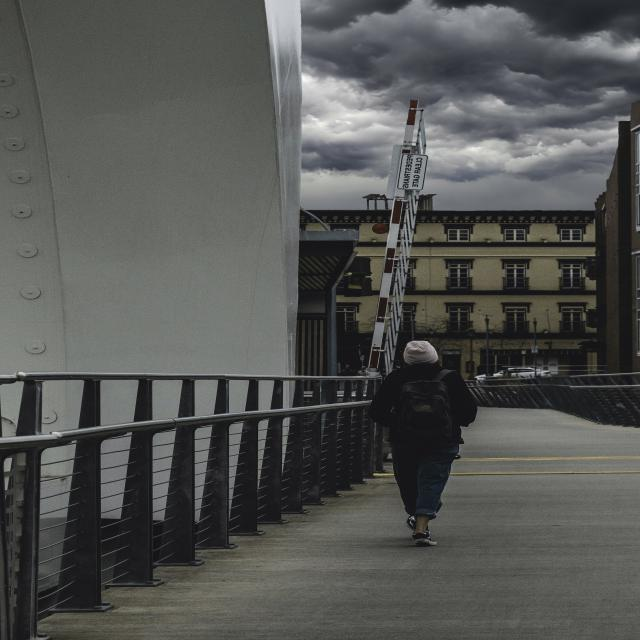adult: (366, 341, 477, 545)
